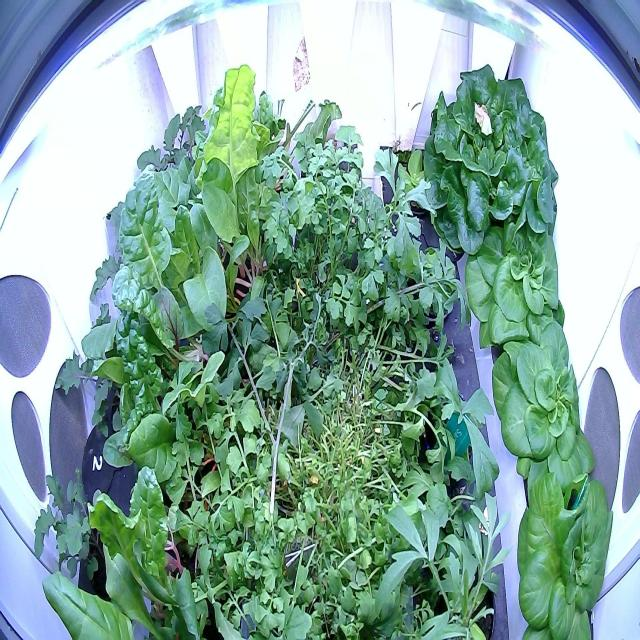young: (490, 320, 600, 507), (461, 191, 577, 353), (512, 469, 616, 638), (388, 132, 451, 223)
